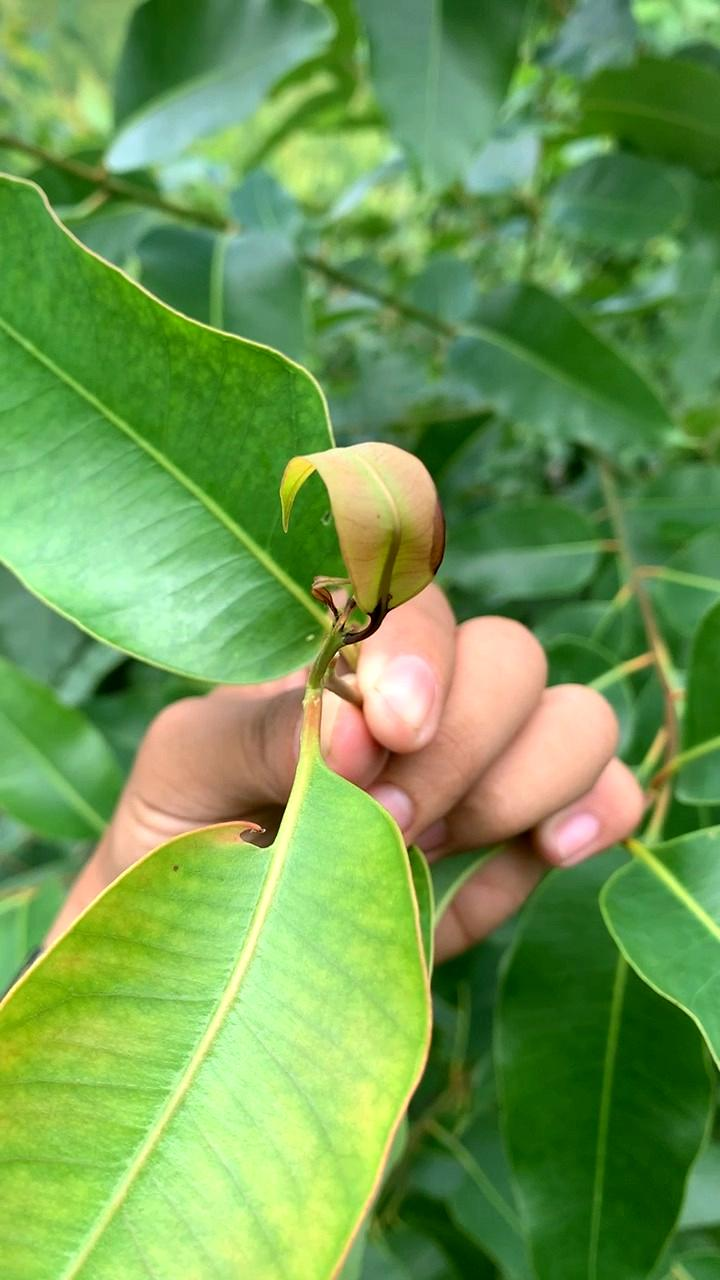Helopeltis-Withered Sprout: (263, 401, 461, 663)
